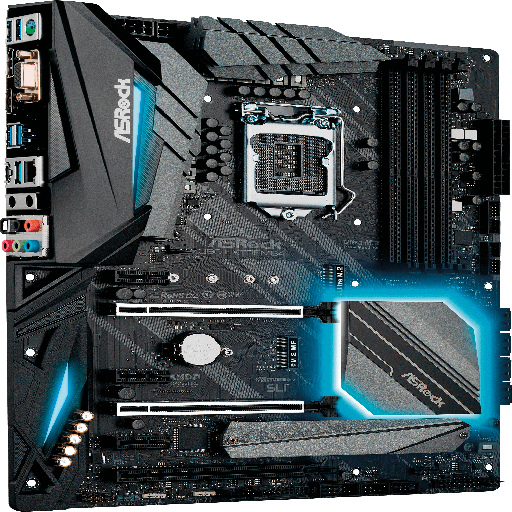CPU: (242, 100, 356, 222)
GPU: (116, 401, 306, 415), (115, 305, 303, 319)
MOTHERBOARD: (5, 4, 512, 510)
RAM: (379, 67, 453, 272)
SSD: (318, 266, 344, 302), (272, 336, 298, 368)
